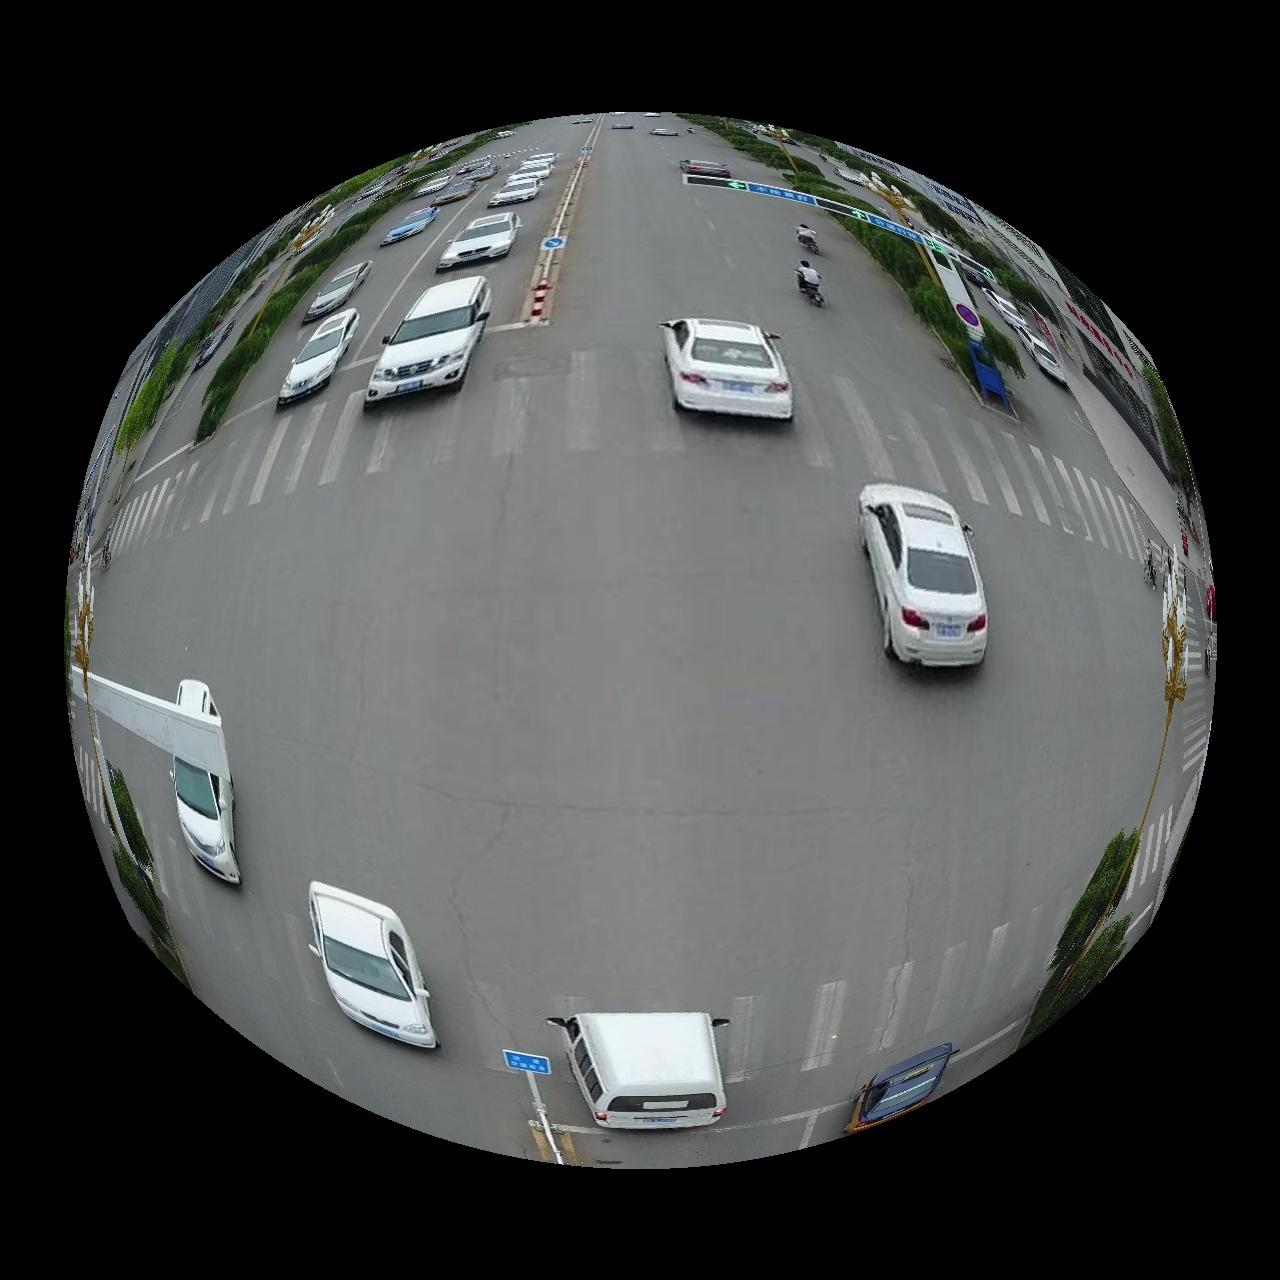cars: (860, 484, 990, 667), (308, 883, 440, 1050), (549, 1014, 729, 1131), (365, 275, 492, 409), (661, 316, 795, 420), (847, 1046, 954, 1133), (171, 751, 240, 885), (278, 307, 358, 407), (437, 211, 520, 268), (302, 261, 373, 321), (381, 206, 440, 244), (173, 680, 217, 719), (486, 177, 539, 206), (433, 178, 476, 204), (508, 159, 552, 182), (411, 173, 450, 197)
trees: (1022, 915, 1133, 1048), (1051, 830, 1141, 973), (1139, 350, 1201, 502), (904, 260, 976, 382), (195, 327, 267, 440), (831, 211, 930, 290), (113, 340, 176, 452), (240, 261, 327, 341), (110, 842, 169, 946), (173, 290, 241, 373), (105, 763, 152, 871), (292, 219, 374, 274), (983, 318, 1027, 377), (149, 928, 188, 989)
